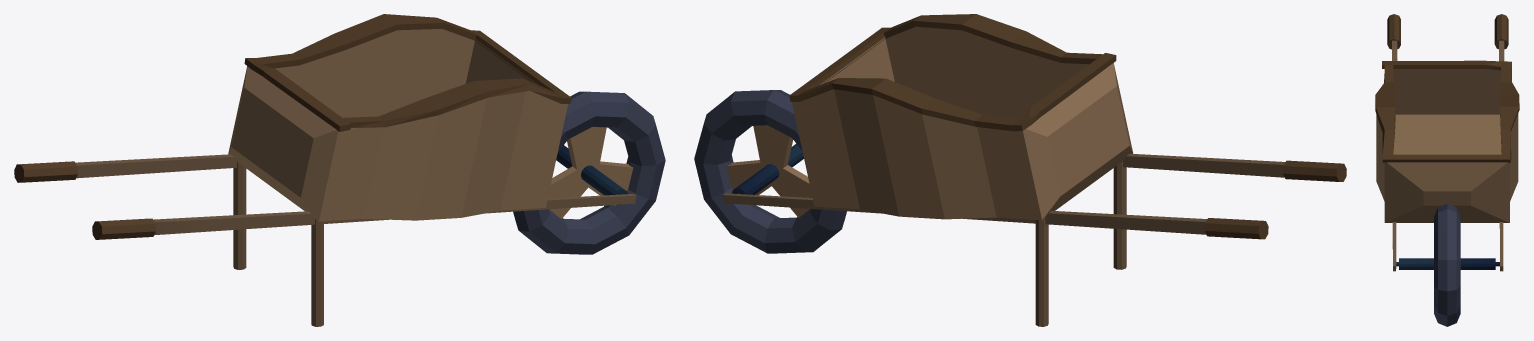
The model's file is CUPIC_WHEELBARROW.obj.
3 views of the same model, side by side, from view 1: azimuth 30°, elevation 25°; view 2: azimuth 150°, elevation 25°; view 3: azimuth 270°, elevation 25° (orthographic). The views are drawn at different scales.
Bounding box in the file's own units: 395 × 149 × 118.
Materials: 1 (1 with a texture image).
